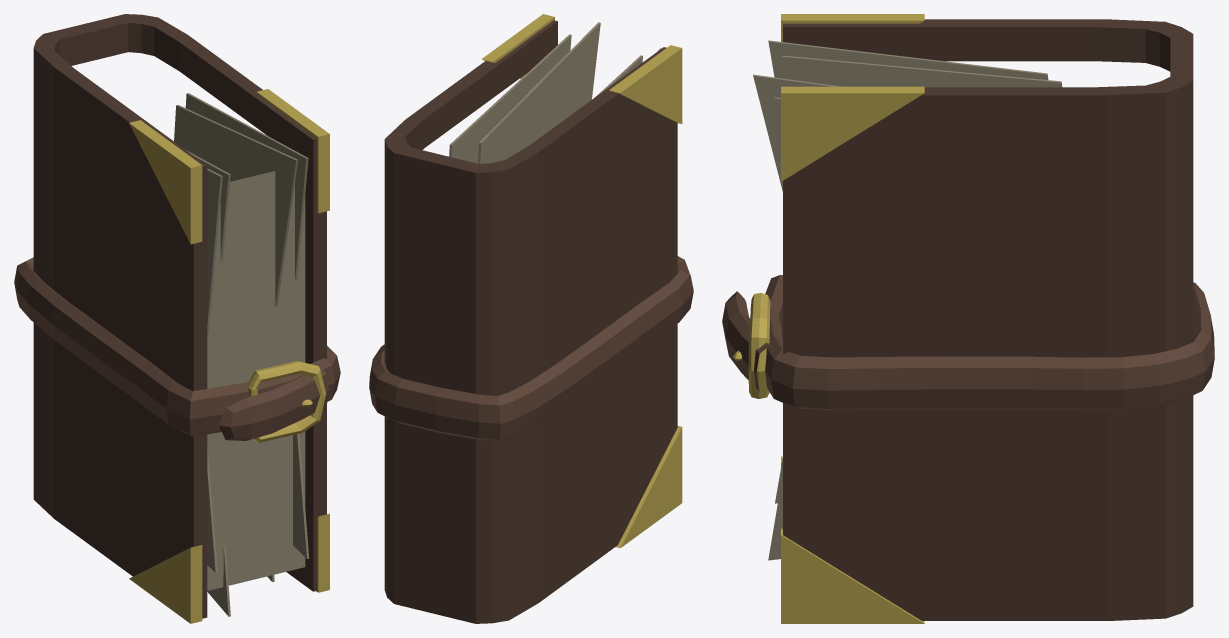
The model's file is trollbok.glb.
3 renders of one model, left to right at view 1: azimuth 30°, elevation 25°; view 2: azimuth 150°, elevation 25°; view 3: azimuth 270°, elevation 25°, orthographic. The views are drawn at different scales.
Visible parts, largest first — view 1: Book3_Closed; view 2: Book3_Closed; view 3: Book3_Closed.
Boxes of the visible parts, <box> form: Book3_Closed: <box>14,14,340,623</box>; Book3_Closed: <box>369,14,693,623</box>; Book3_Closed: <box>722,14,1214,623</box>.
Size of the model in its own units: 0.3129 by 0.8068 by 0.6706.
